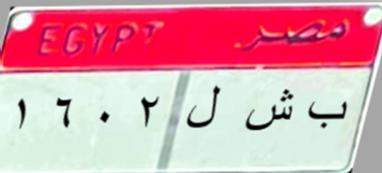0: (93, 100, 119, 138)
1: (6, 90, 37, 138)
2: (133, 88, 166, 138)
6: (47, 93, 80, 135)
baa: (306, 87, 354, 137)
laam: (182, 82, 230, 136)
sheen: (244, 86, 298, 139)
